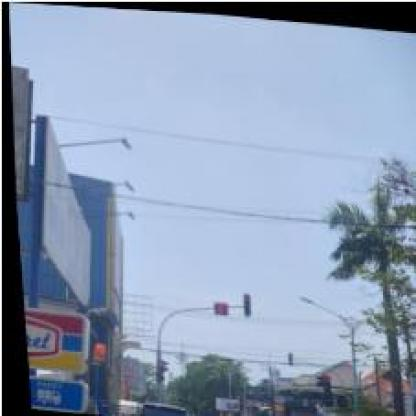red: (148, 358, 160, 382), (238, 290, 247, 314), (316, 374, 325, 396)
